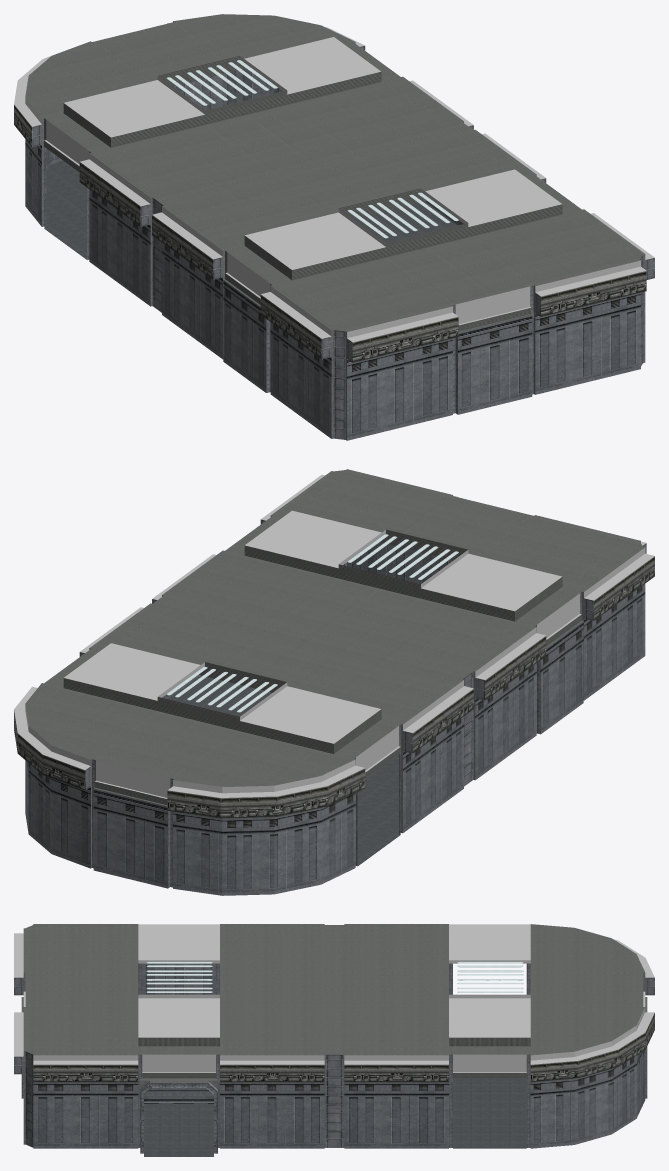
The model's file is poi_all_impl_bunker_warren_s01_r48_smallroom_mesh_r48.fbx.
3 renders of one model, top to bottom at view 1: azimuth 30°, elevation 25°; view 2: azimuth 150°, elevation 25°; view 3: azimuth 270°, elevation 25°, orthographic. The views are drawn at different scales.
Visible parts, largest first — view 1: mesh_node; view 2: mesh_node; view 3: mesh_node.
Part boxes in pixels (box(x1,y1,x2,y2)): mesh_node: box(14, 14, 654, 440); mesh_node: box(14, 469, 654, 895); mesh_node: box(14, 924, 654, 1156).
Bounding box in the file's own units: 17.5 × 6 × 33.
